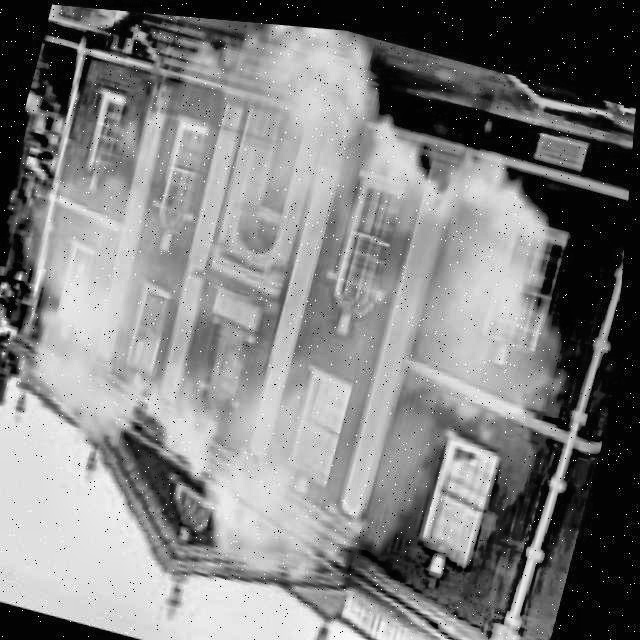Smoke: (0, 5, 637, 640)
